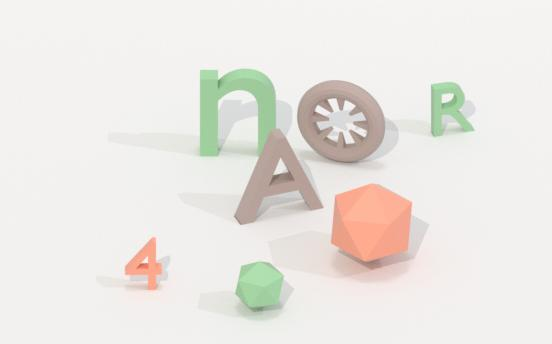4: (124, 233, 164, 294)
A-hoa: (234, 126, 326, 224)
R-hoa: (428, 80, 478, 143)
dagiac: (329, 180, 416, 267), (234, 258, 287, 313)
n: (195, 62, 280, 161)
tron: (293, 81, 388, 163)
